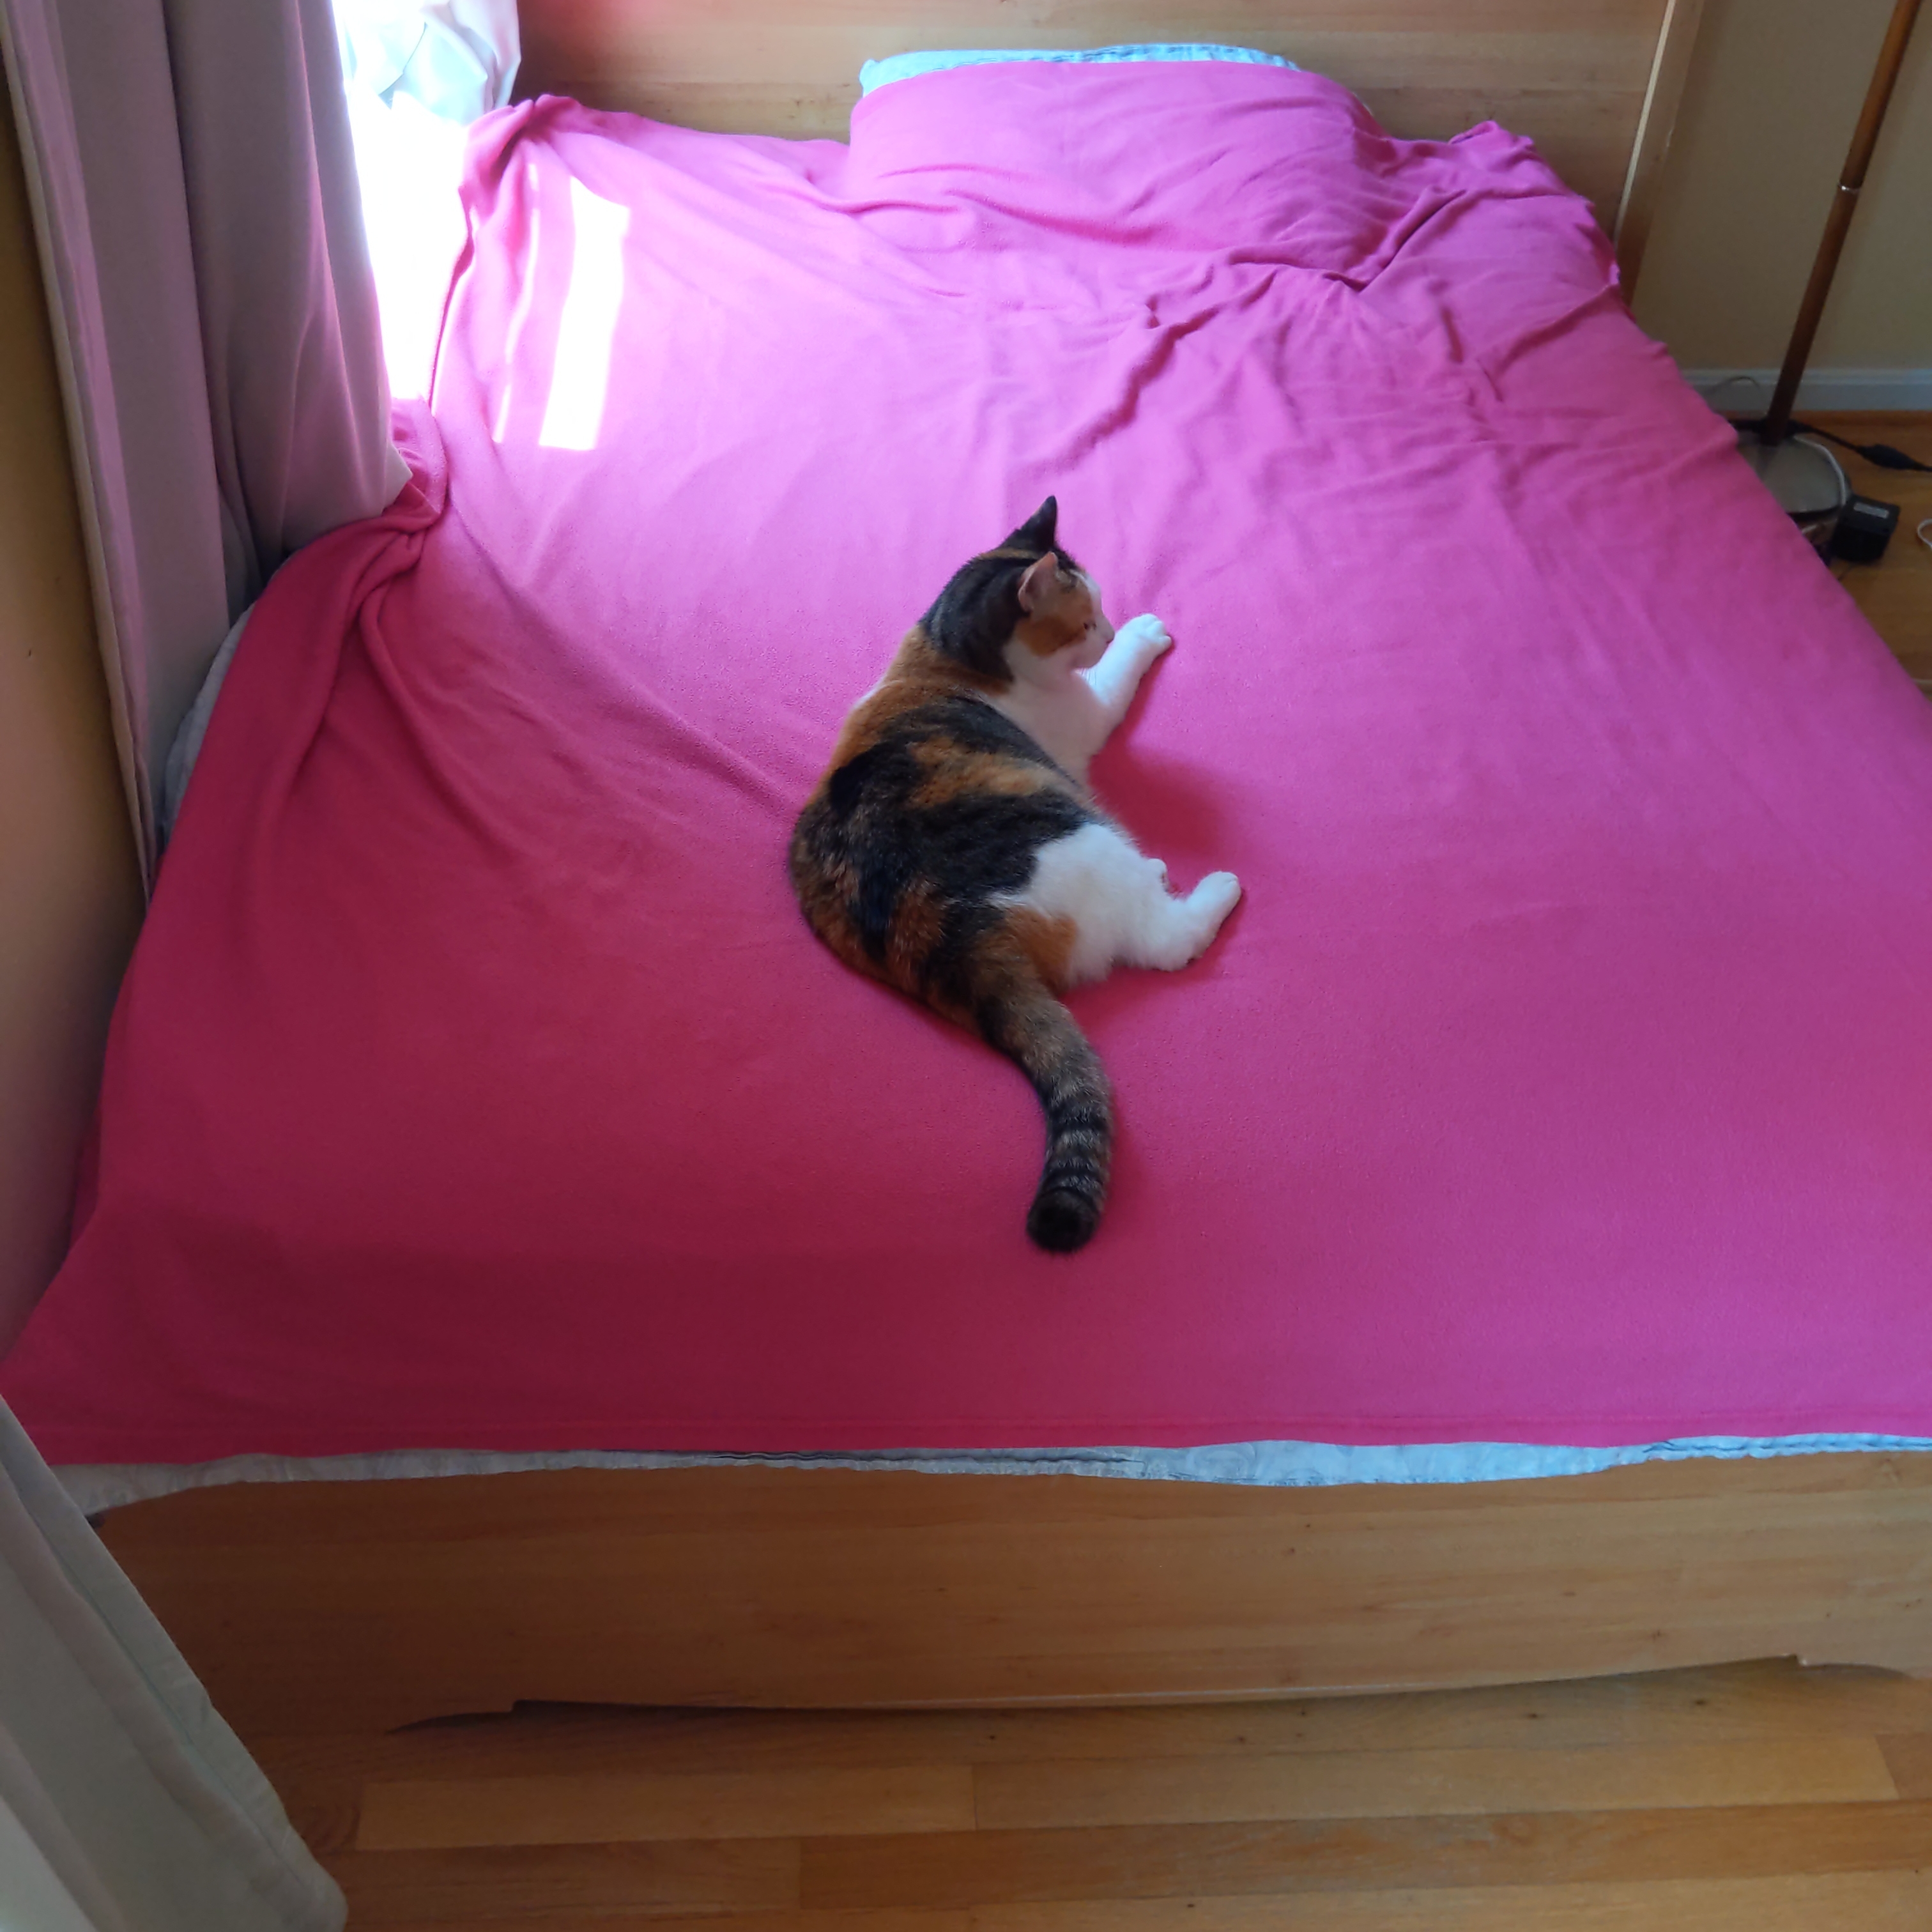Calico: (789, 495, 1246, 1258)
